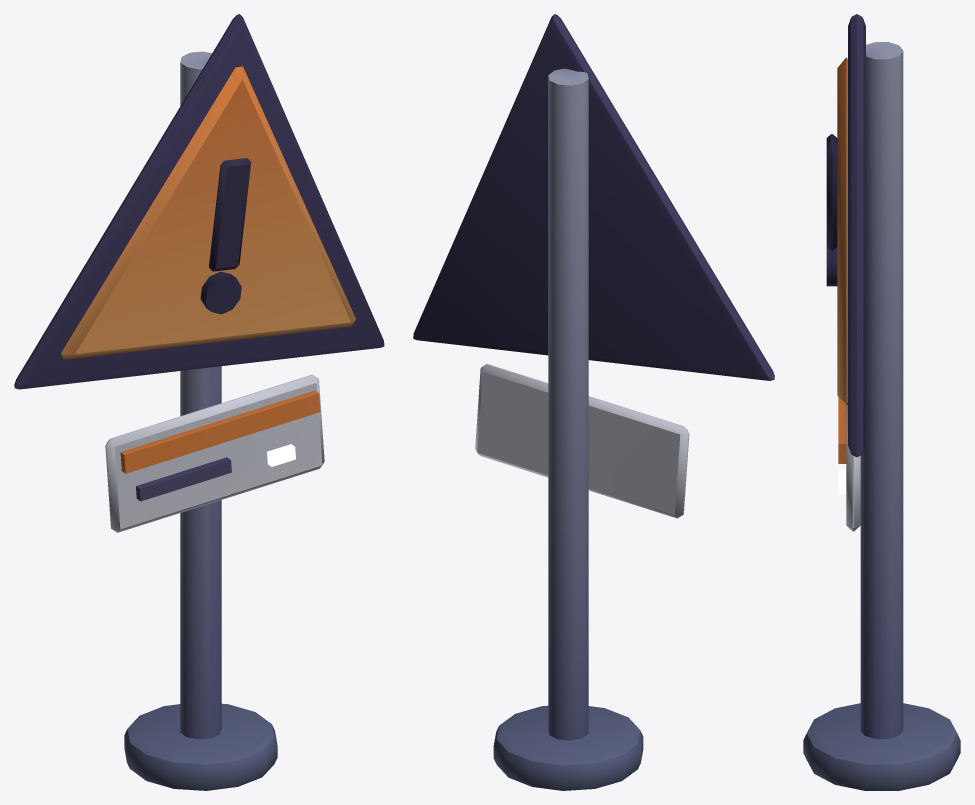
File: hub_prop_warning_sign.glb
The picture shows the model from 3 angles, left to right: view 1: azimuth 30°, elevation 25°; view 2: azimuth 150°, elevation 25°; view 3: azimuth 270°, elevation 25°; orthographic projection. The views are drawn at different scales.
Visible parts, largest first — view 1: hub_prop_warning_sign; view 2: hub_prop_warning_sign; view 3: hub_prop_warning_sign.
Part boxes in pixels (<box>): hub_prop_warning_sign: <box>14,14,384,790</box>; hub_prop_warning_sign: <box>413,14,774,790</box>; hub_prop_warning_sign: <box>803,14,960,790</box>.
Size of the model in its own units: 1.21 by 2.35 by 0.44.
